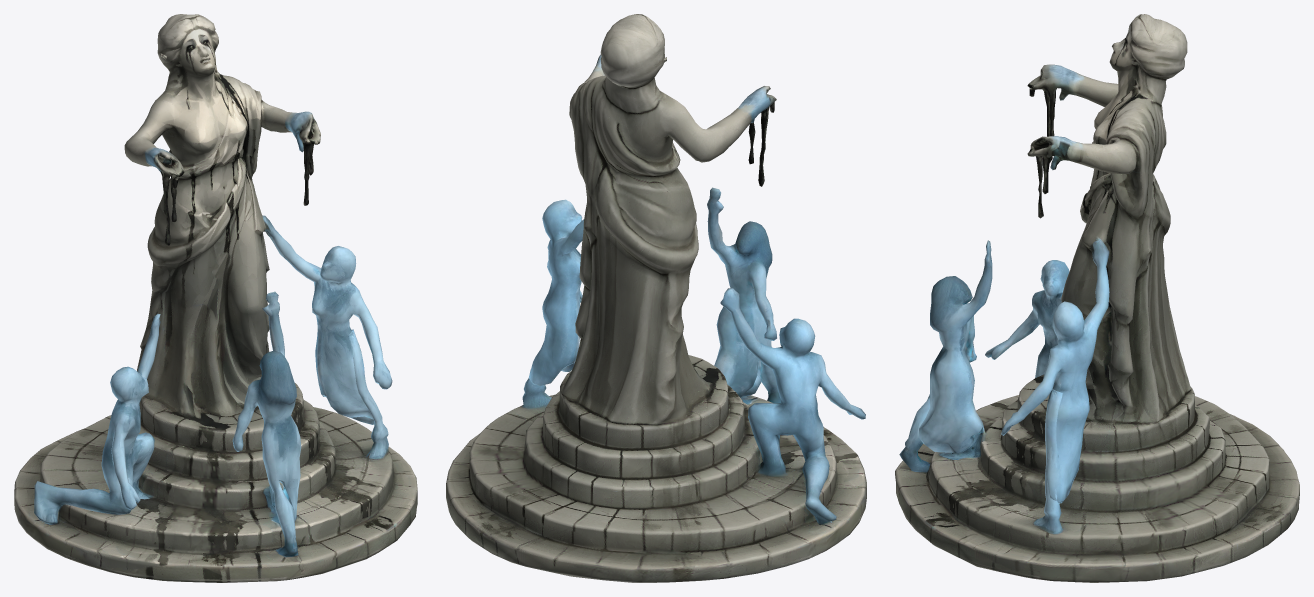
Rendered from weeping-liberty-witness.glb.
The picture shows the model from 3 angles, left to right: view 1: azimuth 30°, elevation 25°; view 2: azimuth 150°, elevation 25°; view 3: azimuth 270°, elevation 25°; orthographic projection. The views are drawn at different scales.
Size of the model in its own units: 1.46 by 1.91 by 1.45.
1 material, 1 textured.
